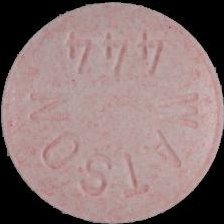68151-0623: (0, 0, 224, 224)
